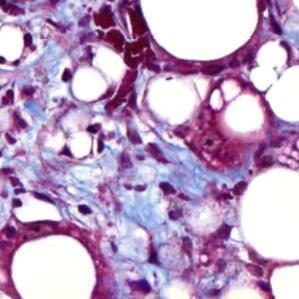steatosis: (225, 97, 268, 136), (71, 68, 108, 104)
